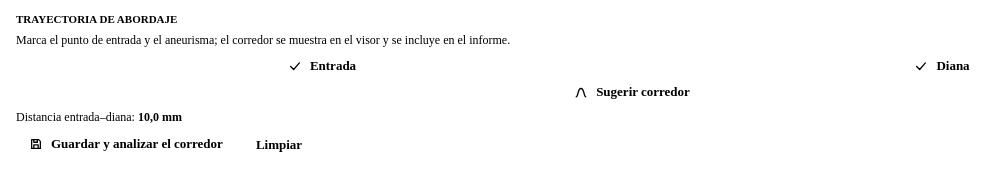
Test: TrajectoryTool › con eje medido, el ángulo se dice respecto al eje del aneurisma
Click the button "Guardar y analizar el corredor".
click(126, 144)  # box [16, 135, 236, 153]
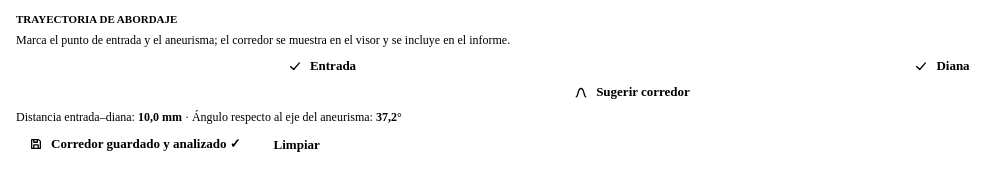
Result: the text "Ángulo respecto al eje del aneurisma" is shown at [192, 110, 370, 124]
Result: the text "37,2°" is shown at [376, 110, 402, 124]
